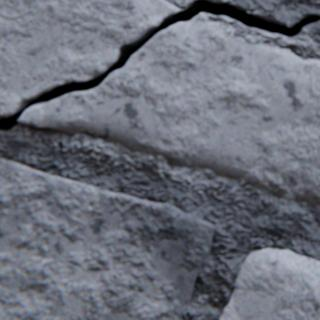brick: (0, 159, 215, 319), (219, 247, 319, 319)
broken_brick: (19, 15, 319, 205), (0, 0, 182, 116)
crack: (0, 0, 319, 130)
